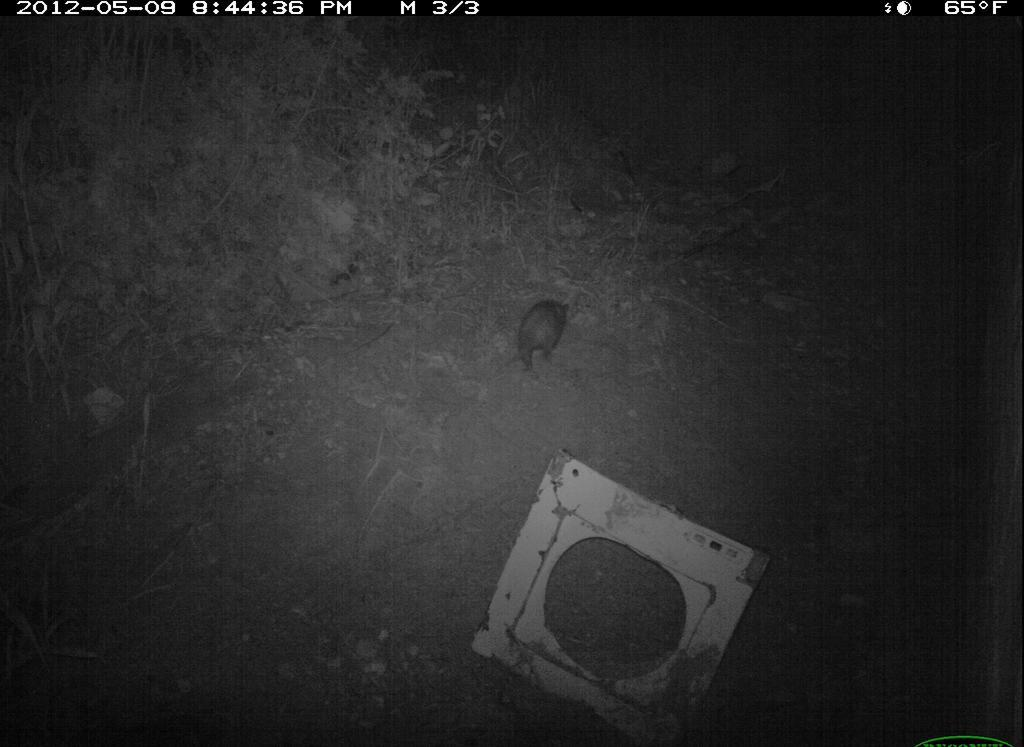opossum: (477, 285, 591, 393)
